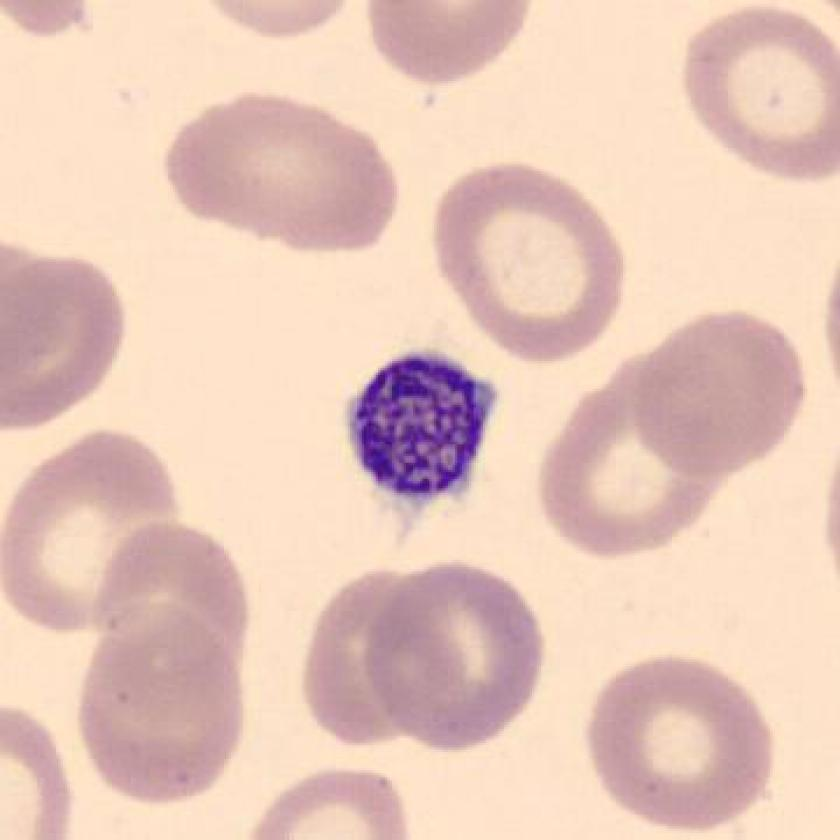platelets: (342, 344, 507, 527)
